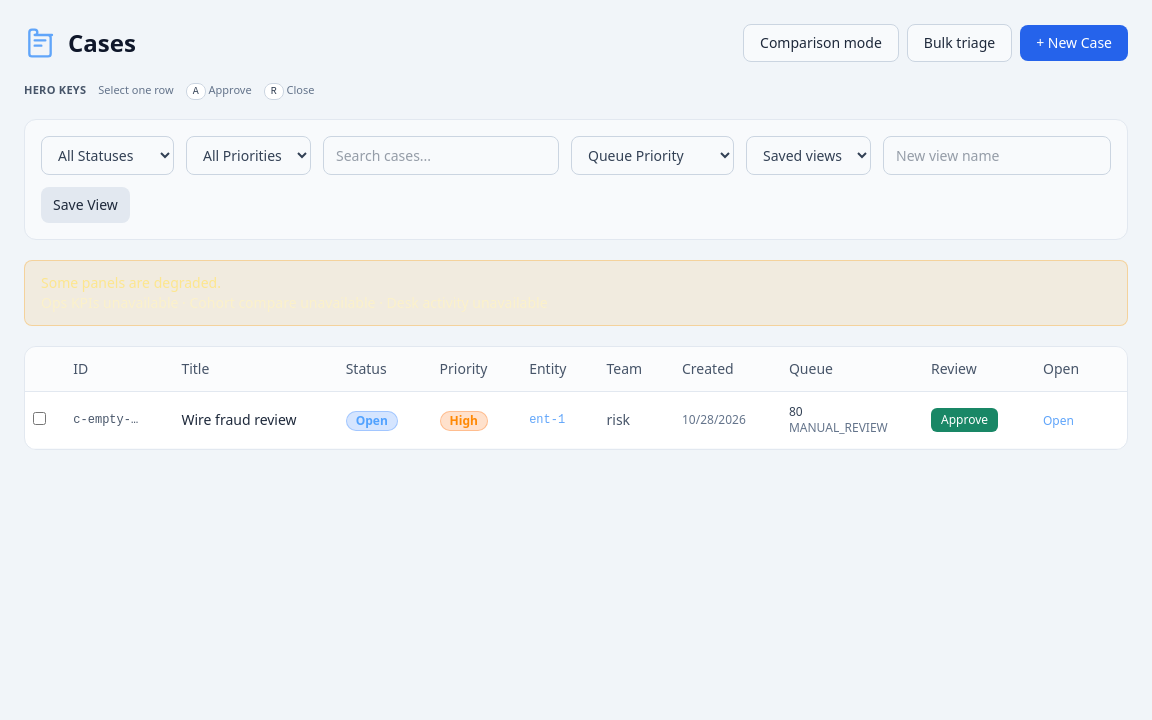
it: Cases empty states › shows No cases match and Clear filters when filters hide every row
Expected: the text "Wire fraud review" is shown, left=181, top=410, right=297, bottom=430
Type "zzzz-no-match" into the field with placeholder "Search cases..." at (441,156), box left=323, top=136, right=559, bottom=175
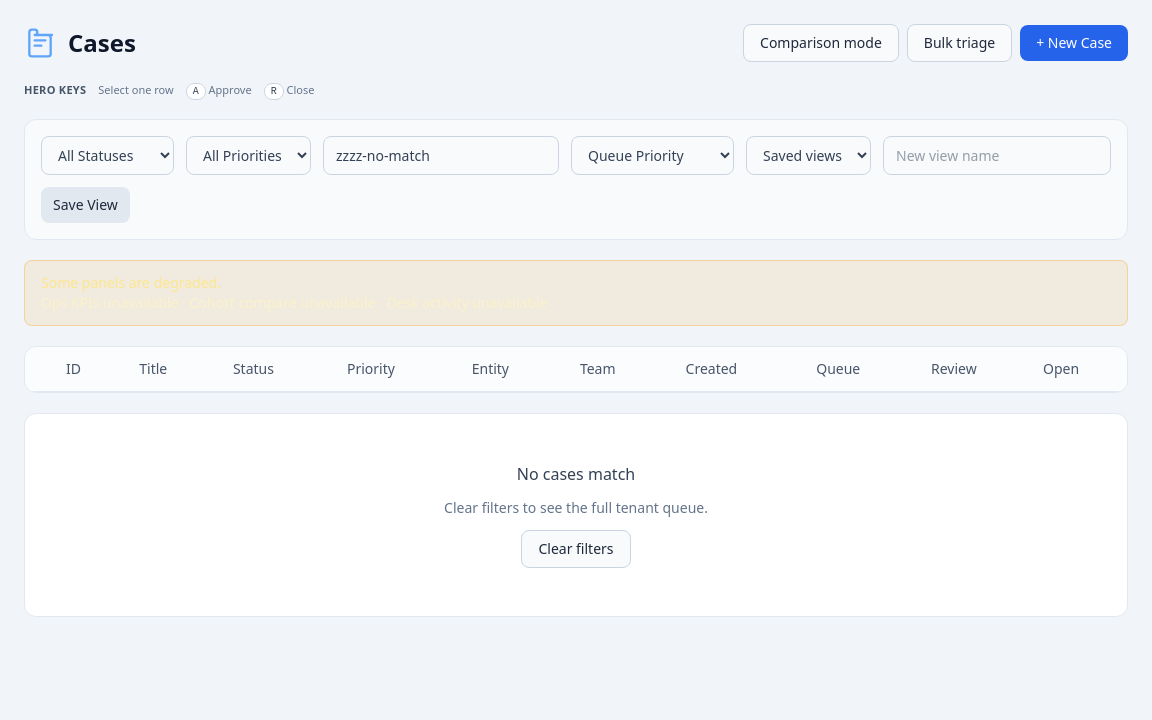
Expected: the element with test id "cases-empty" shows "No cases match", left=517, top=463, right=635, bottom=485
Click the button "Clear filters" at (576,549), box left=521, top=530, right=630, bottom=568
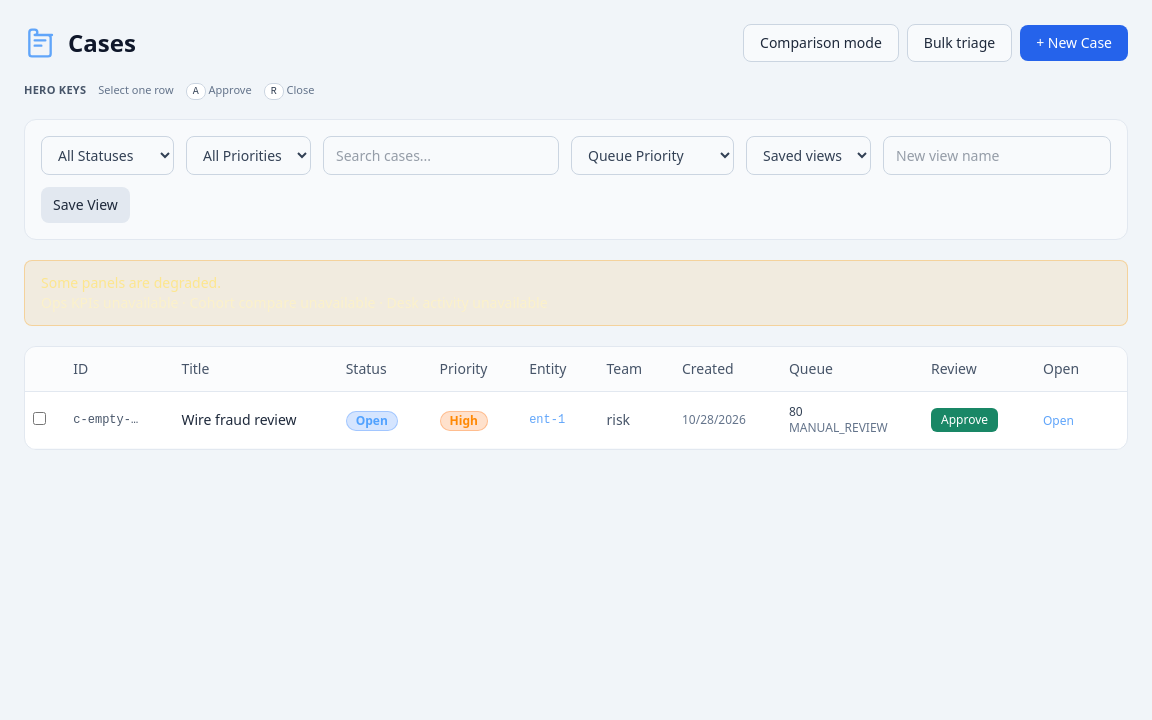
Expected: the text "Wire fraud review" is shown, left=181, top=410, right=297, bottom=430
